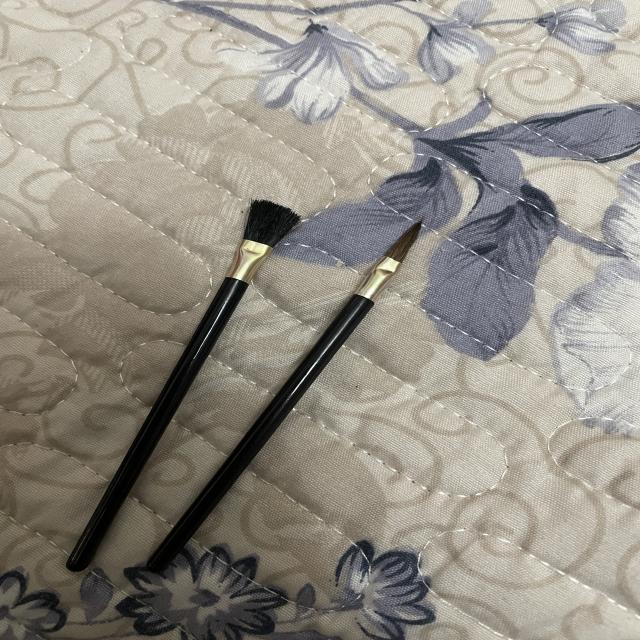brush: (54, 188, 456, 582), (146, 188, 327, 370), (314, 205, 445, 335)
